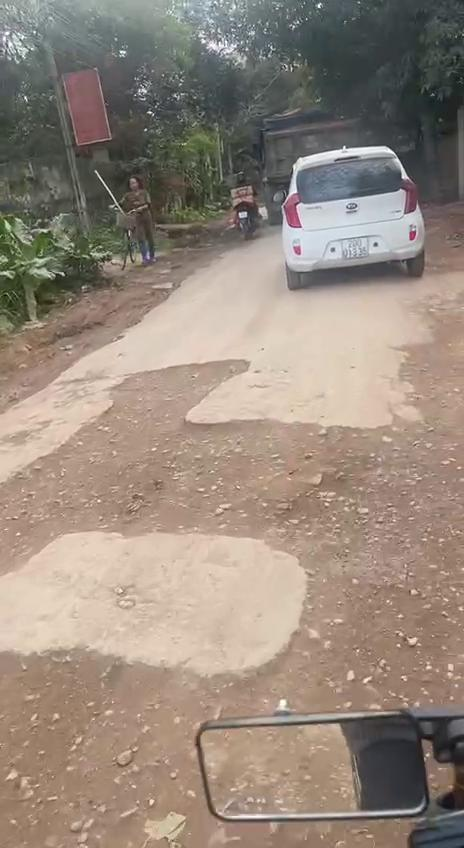pothole: (7, 635, 464, 848), (0, 361, 464, 564), (393, 296, 464, 425)
